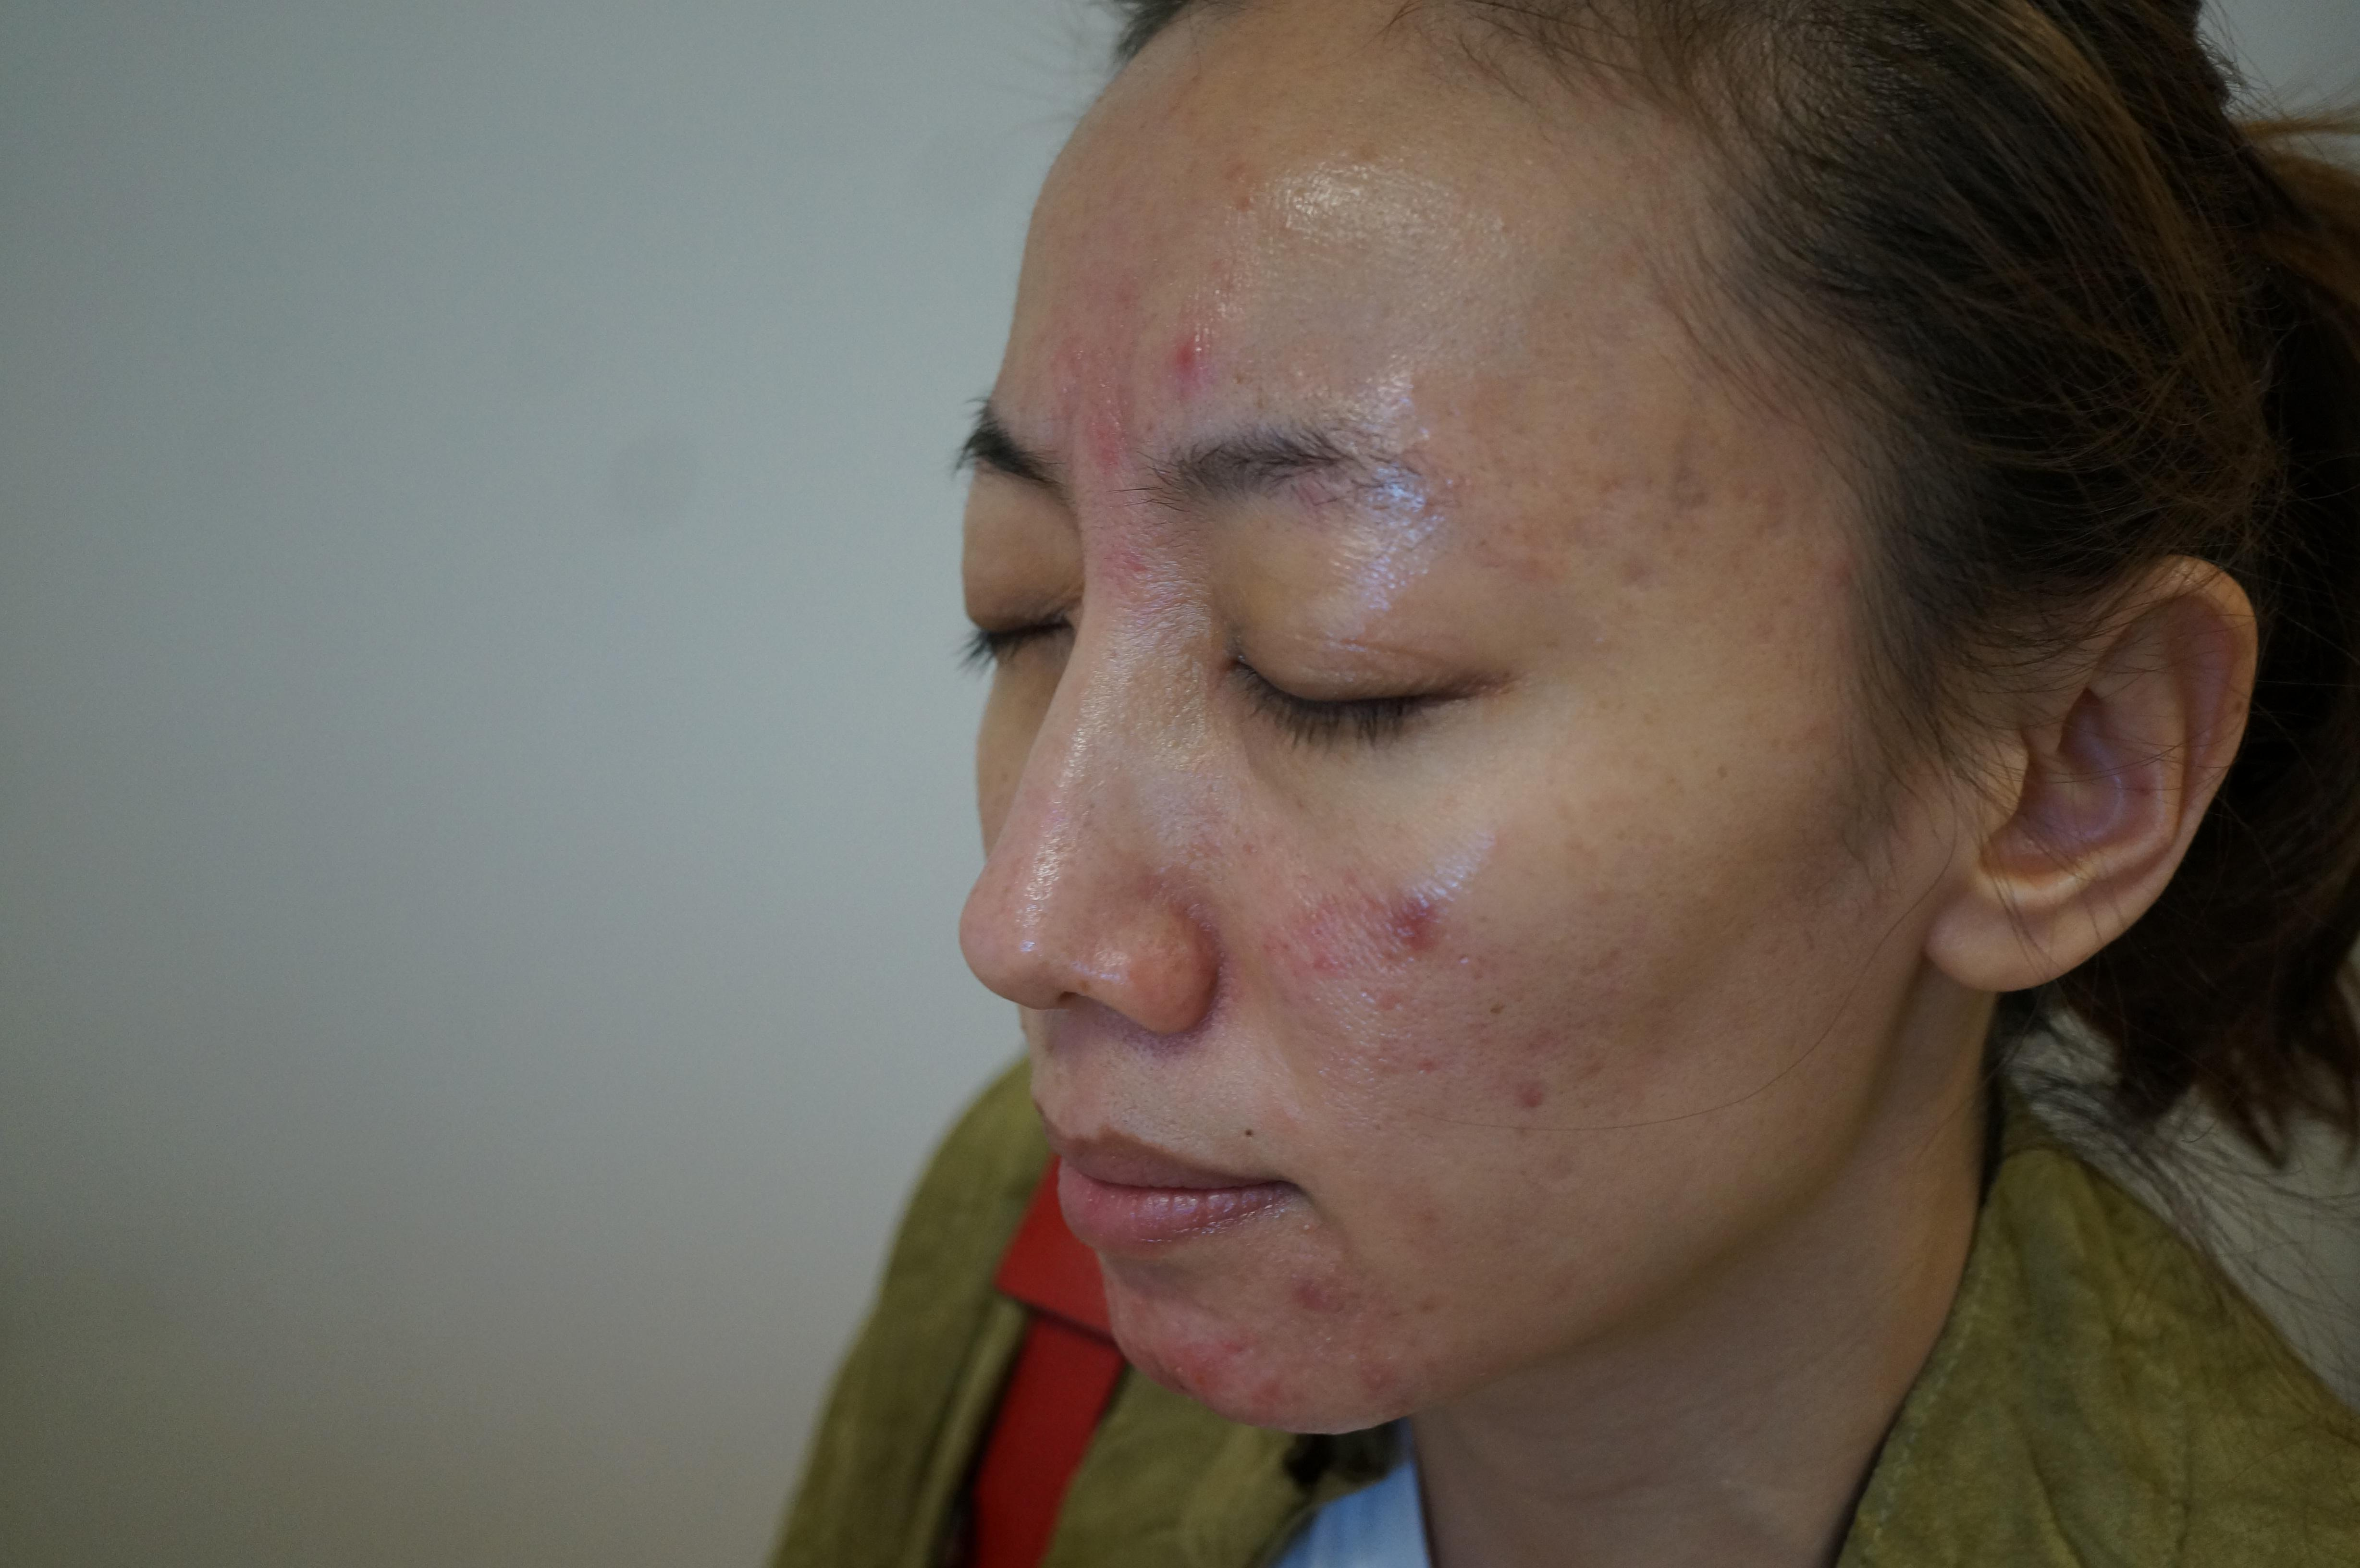fore: (1639, 444, 1713, 546), (1274, 1260, 1377, 1319), (1153, 1319, 1233, 1395), (1361, 892, 1445, 957), (1496, 1085, 1564, 1132), (1172, 325, 1212, 394), (1249, 1372, 1300, 1416), (1361, 1351, 1405, 1400)
